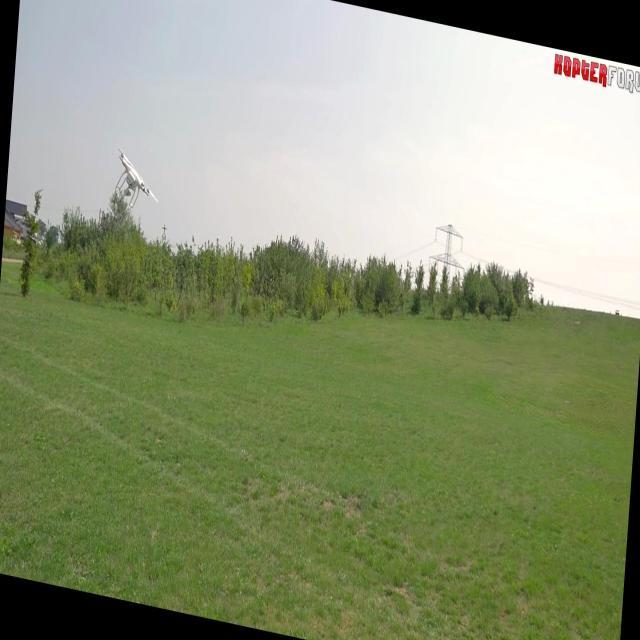drone: (112, 148, 156, 222)
